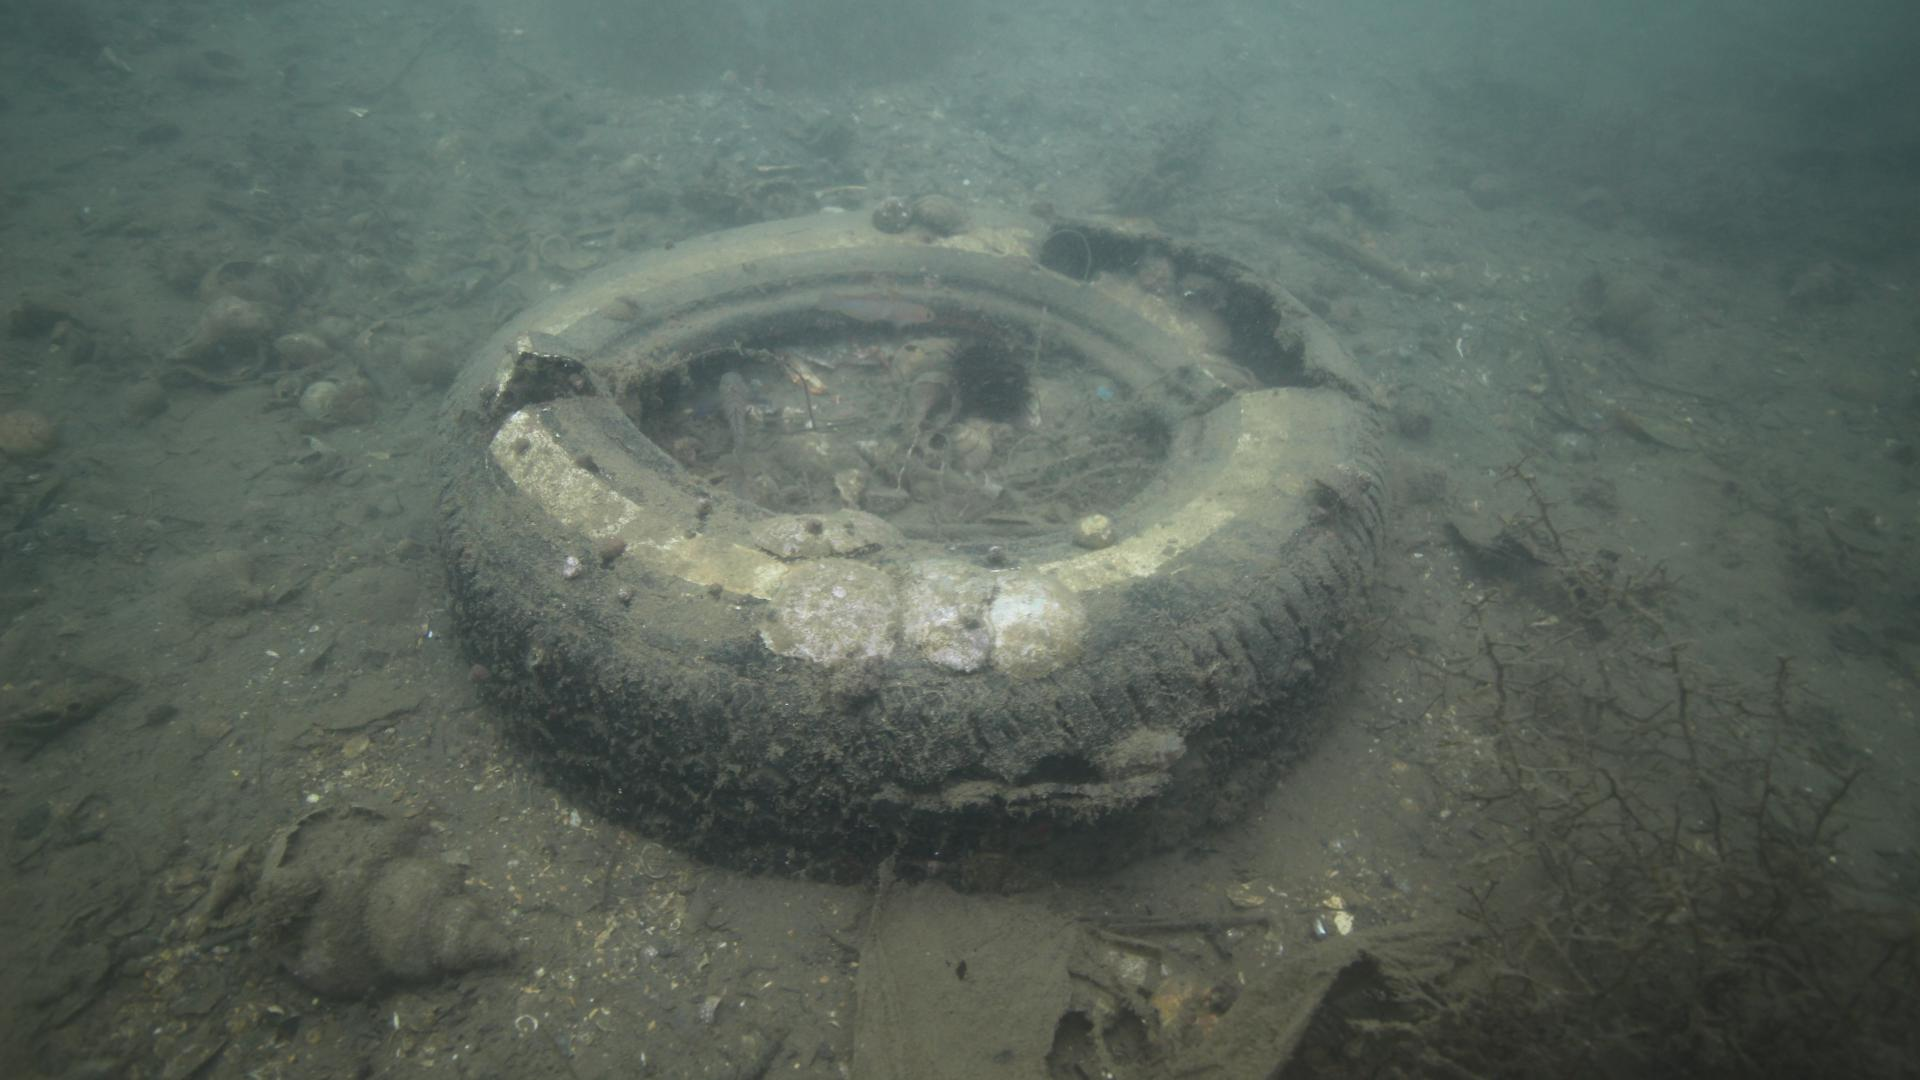tire: (429, 204, 1390, 891)
